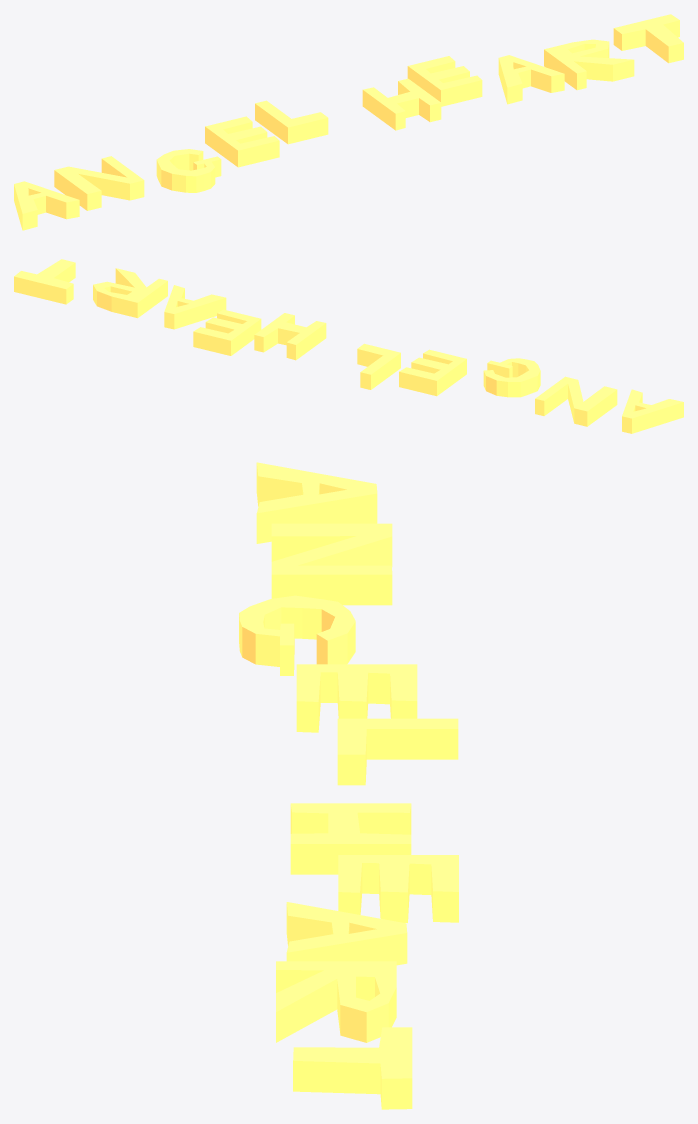
Rendered from AngelHeart.fbx.
The picture shows the model from 3 angles, top to bottom: view 1: azimuth 30°, elevation 25°; view 2: azimuth 150°, elevation 25°; view 3: azimuth 270°, elevation 25°; orthographic projection. The views are drawn at different scales.
Parts seen in each view (by area): view 1: Plane.001; view 2: Plane.001; view 3: Plane.001.
Part boxes in pixels (box(x1,y1,x2,y2)): Plane.001: box(14, 14, 683, 230); Plane.001: box(14, 259, 683, 433); Plane.001: box(239, 462, 458, 1109).
Size of the model in its own units: 665 by 15.48 by 100.
